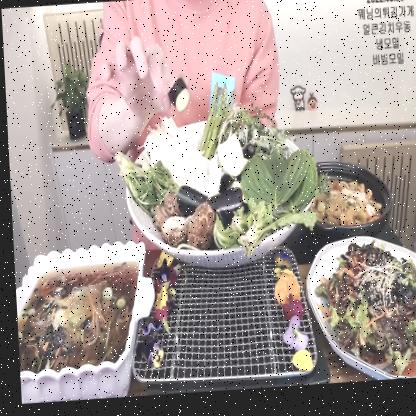streamer: (79, 0, 283, 228)
